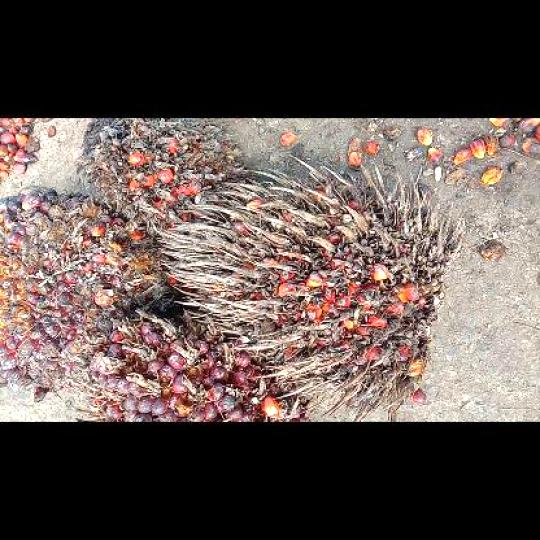masak: (0, 190, 177, 402), (66, 310, 310, 420)
terlalu masak: (157, 153, 463, 421), (76, 117, 243, 236)
